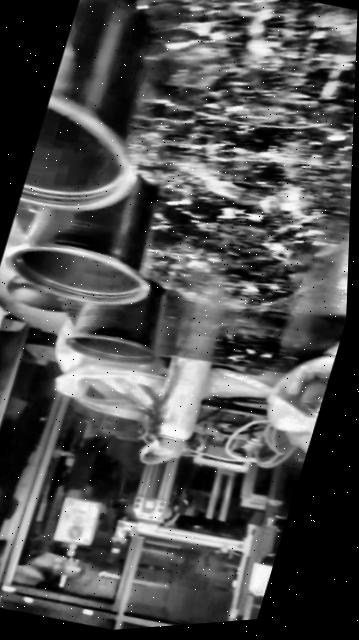pot: (17, 0, 175, 225), (7, 177, 155, 304), (65, 282, 162, 364)
